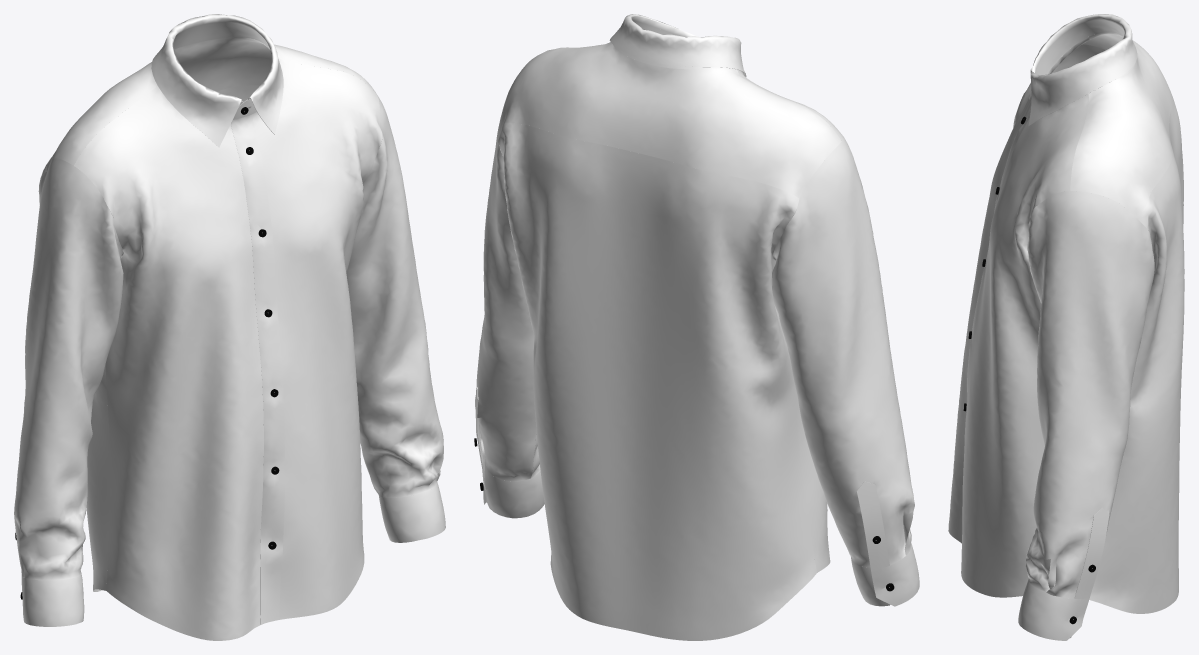
File: MainGLBNew.glb
3 renders of one model, left to right at view 1: azimuth 30°, elevation 25°; view 2: azimuth 150°, elevation 25°; view 3: azimuth 270°, elevation 25°, orthographic. The views are drawn at different scales.
Visible parts, largest first — view 1: Body_Front_Node (×2), Sleeves_Node (×2), Body_Back_Yoke_Node, Collar_Node, Cuffs_Node (×2), Body_Back_Node, Collar_Stand_Node; view 2: Body_Back_Node, Sleeves_Node (×2), Body_Back_Yoke_Node, Cuffs_Node (×2), Collar_Node, Body_Front_Node, Sleeves_Placket_Node; view 3: Sleeves_Node (×2), Body_Front_Node (×2), Body_Back_Node, Body_Back_Yoke_Node, Collar_Node, Cuffs_Node, Collar_Stand_Node, Sleeves_Placket_Node.
Part boxes in pixels (x1,y1,x2,y2): Body_Front_Node (×2): [74, 59, 382, 640]; Sleeves_Node (×2): [14, 95, 443, 580]; Body_Back_Yoke_Node: [46, 37, 376, 170]; Collar_Node: [151, 14, 283, 147]; Cuffs_Node (×2): [21, 482, 445, 626]; Body_Back_Node: [41, 85, 259, 591]; Collar_Stand_Node: [173, 22, 270, 119]; Body_Back_Node: [498, 122, 816, 640]; Sleeves_Node (×2): [475, 88, 914, 567]; Body_Back_Yoke_Node: [503, 42, 841, 198]; Cuffs_Node (×2): [482, 456, 919, 606]; Collar_Node: [609, 14, 746, 76]; Body_Front_Node: [737, 69, 845, 572]; Sleeves_Placket_Node: [856, 481, 889, 571]; Sleeves_Node (×2): [1025, 44, 1154, 598]; Body_Front_Node (×2): [948, 37, 1089, 597]; Body_Back_Node: [1089, 97, 1184, 613]; Body_Back_Yoke_Node: [1070, 32, 1173, 217]; Collar_Node: [1028, 14, 1137, 126]; Cuffs_Node: [1018, 579, 1089, 640]; Collar_Stand_Node: [1034, 20, 1135, 80]; Sleeves_Placket_Node: [1074, 508, 1109, 598].
Size of the model in its own units: 0.6131 by 0.7839 by 0.3061.
5 materials, 5 textured.
